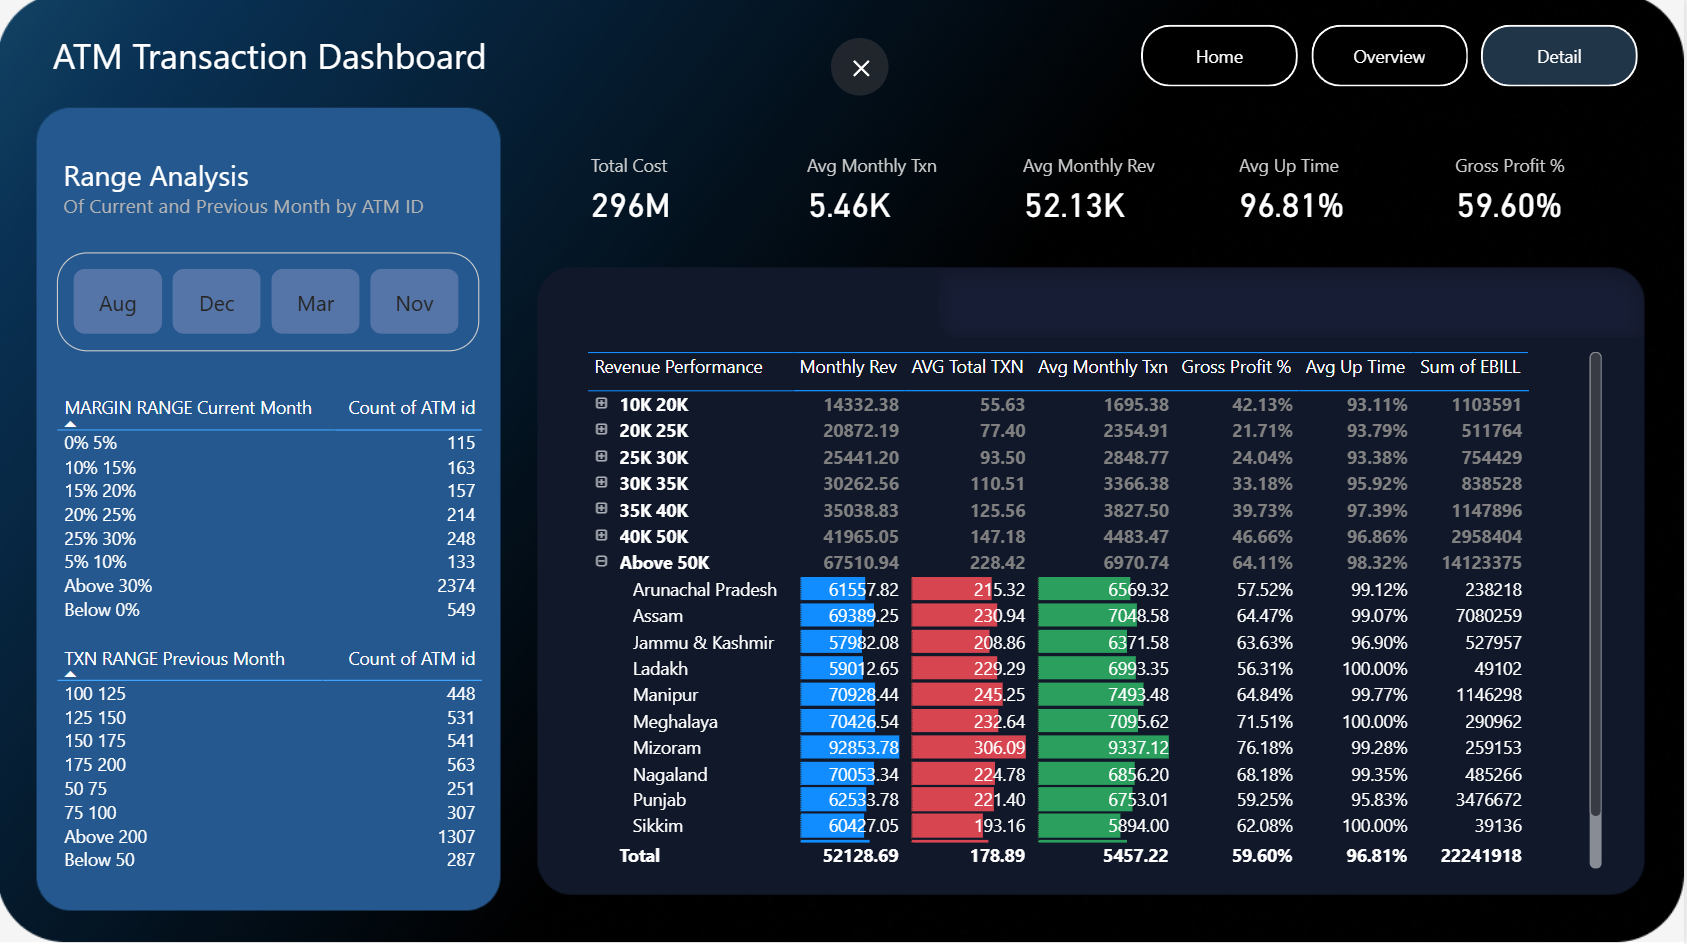

What the dashboard file says about the page in this screenshot:
{"tool":"powerbi","page":{"name":"Detail","canvas":[1280,720],"ordinal":2},"visuals":[{"type":"tableEx","fields":{"Values":["Dataset.MARGIN RANGE Current Month","Dataset.ATM id"]},"box":[40,298.4,334.1,189.9],"z":0},{"type":"tableEx","fields":{"Values":["Dataset.TXN RANGE Previous Month","Dataset.ATM id"]},"box":[40,488.2,334.1,192.7],"z":1000},{"type":"textbox","box":[45.6,115.3,332.5,61.7],"z":2000},{"type":"advancedSlicerVisual","fields":{"Values":["Dataset.Short_Month"]},"box":[45.6,194.4,320.5,75.1],"z":3000},{"type":"pivotTable","fields":{"Rows":["Dataset.Revenue Performance","Dataset.STATE"],"Values":["Avg(Dataset.Monthly Rev)","Avg(Dataset.AVG Total TXN)","Avg(Dataset.Monthly Txn)","Dataset.Gross Profit Percentage","Avg(Dataset.Up Time)","Sum(Dataset. EBILL )"]},"box":[448.5,269.7,769.7,392.4],"z":4000},{"type":"textbox","box":[22.8,21.4,472.5,58.5],"z":5000},{"type":"pageNavigator","box":[868,21.4,378.3,47.1],"z":6000},{"type":"cardVisual","fields":{"Data":["Sum(Dataset. Total Cost  )","Avg(Dataset.Monthly Txn)","Avg(Dataset.Monthly Rev)","Avg(Dataset.Up Time)","Dataset.Gross Profit Percentage"]},"box":[434,108.5,825.2,75],"z":7000}]}

Visuals, with their boxes in screenshot pixels (x1, y1, x2, y2), scaled from the page's 1280x720 canvas onto the 1687x944 screenshot:
tableEx - Dataset.MARGIN RANGE Current Month x Dataset.ATM id: bbox=[53, 391, 493, 640]
tableEx - Dataset.TXN RANGE Previous Month x Dataset.ATM id: bbox=[53, 640, 493, 893]
textbox: bbox=[60, 151, 498, 232]
advancedSlicerVisual - Dataset.Short_Month: bbox=[60, 255, 483, 353]
pivotTable - Dataset.Revenue Performance x Dataset.STATE: bbox=[591, 354, 1606, 868]
textbox: bbox=[30, 28, 653, 105]
pageNavigator: bbox=[1144, 28, 1643, 90]
cardVisual - Sum(Dataset. Total Cost  ) x Avg(Dataset.Monthly Txn): bbox=[572, 142, 1660, 241]
